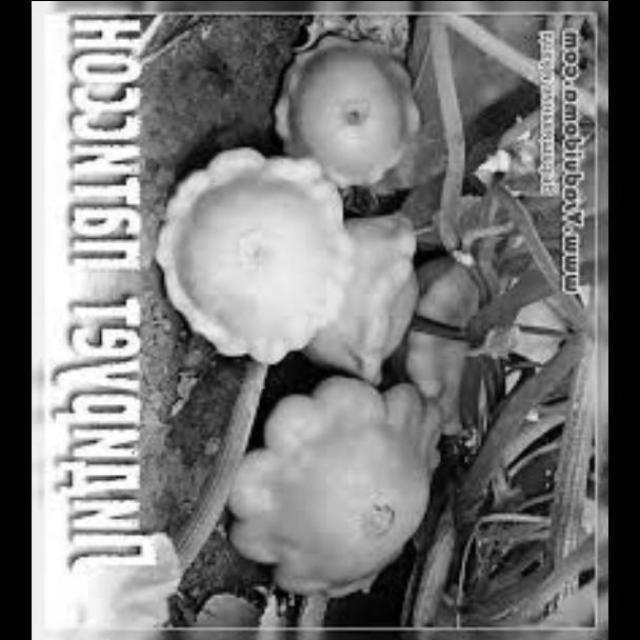squash: (220, 357, 449, 616), (155, 133, 346, 370), (254, 12, 441, 196), (309, 188, 434, 392), (409, 245, 494, 433)
